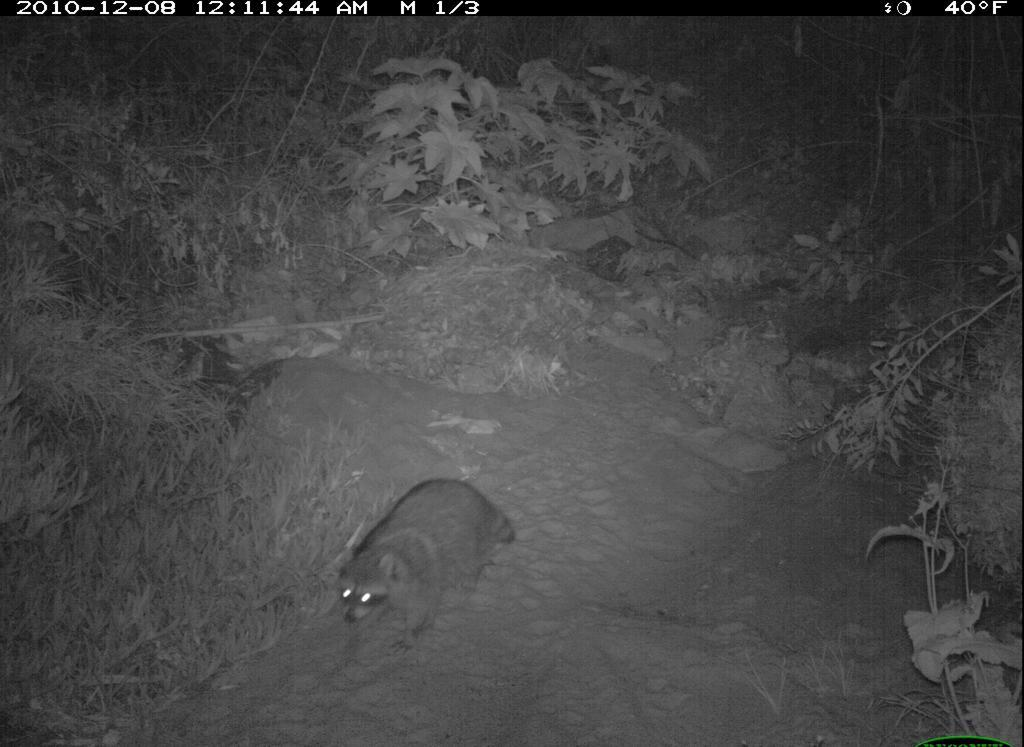raccoon: (337, 472, 523, 647)
